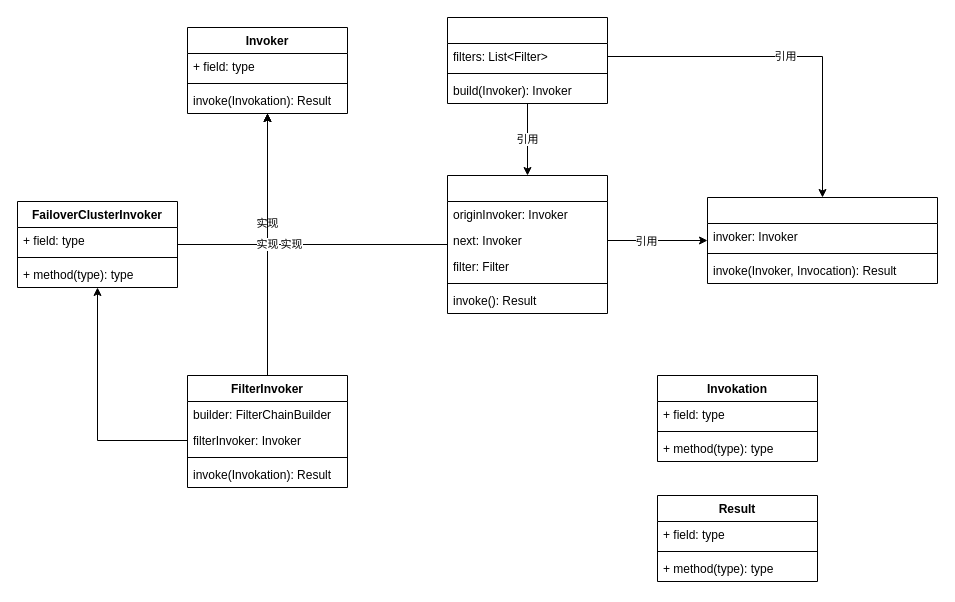
This 955x602 diagram has some shape labels left out. Each missing label, with the box of its shape:
Filter: (706, 196, 938, 284)
FilterChainBuilder: (446, 16, 608, 104)
FilterChainNode: (446, 174, 608, 314)
